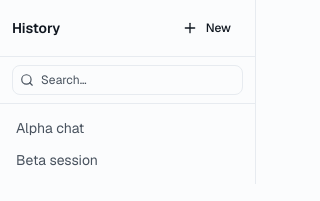
Scenario: ChatHistorySidebar search filter › shows all conversations when search is cleared
Expected: the button "Alpha chat" is shown, [8,112,155,144]
Type "alpha" into the search field at (128, 80), box [12,65,243,95]
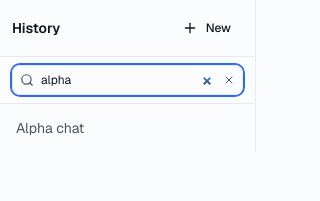
Expected: the button "Beta session" is gone
Clear the search field at (128, 80), box [12,65,243,95]
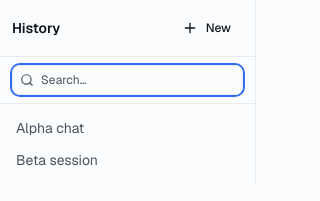
Expected: the button "Alpha chat" is shown, [8,112,155,144]
Expected: the button "Beta session" is shown, [8,144,155,176]
